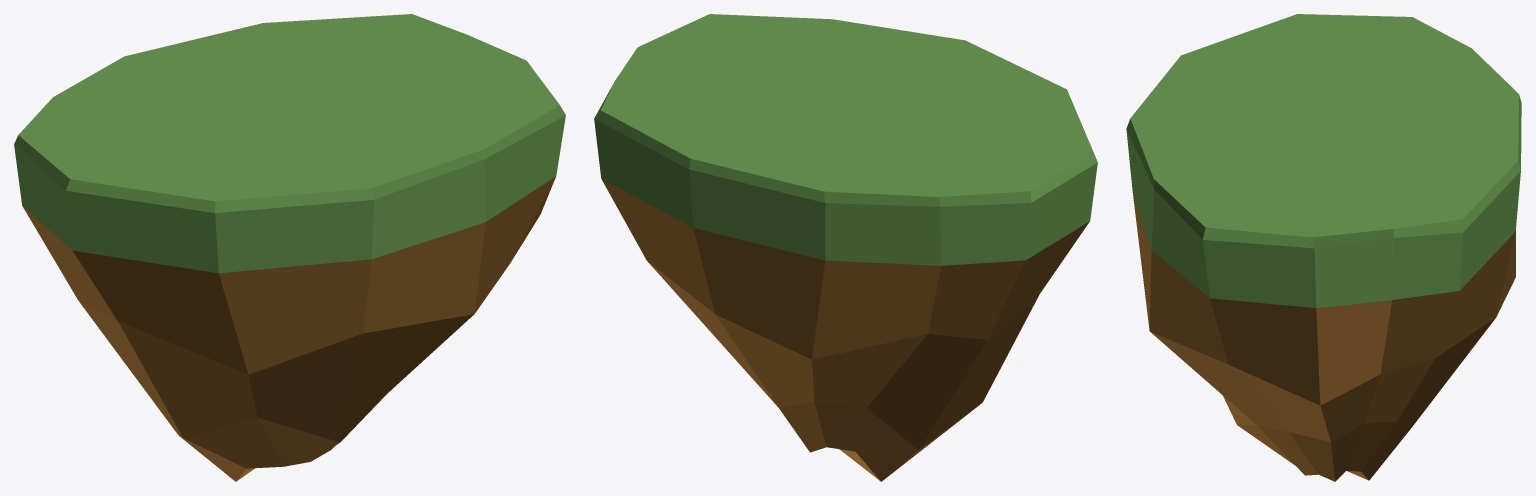
File: Platform_BIG.fbx
The picture shows the model from 3 angles, left to right: view 1: azimuth 30°, elevation 25°; view 2: azimuth 150°, elevation 25°; view 3: azimuth 270°, elevation 25°; orthographic projection. The views are drawn at different scales.
Visible parts, largest first — view 1: Platform; view 2: Platform; view 3: Platform.
Part boxes in pixels (bbox=[...]): Platform: bbox=[14, 14, 565, 481]; Platform: bbox=[594, 14, 1097, 481]; Platform: bbox=[1126, 14, 1521, 481].
Size of the model in its own units: 1823 by 1322 by 1298.
